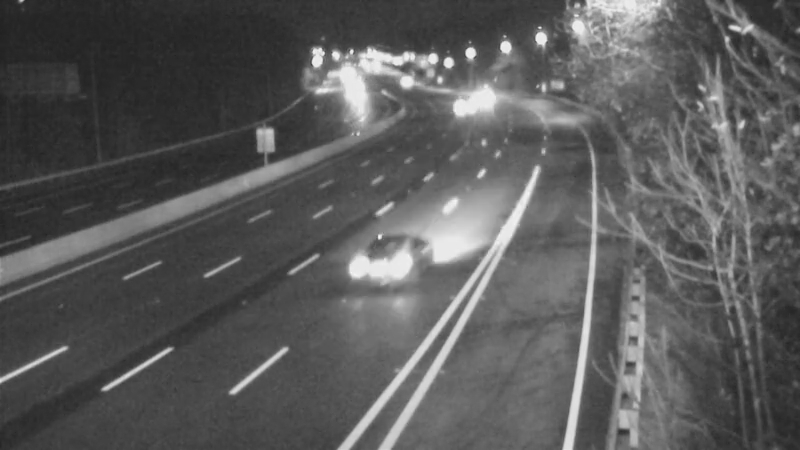vehicle: (339, 226, 419, 306), (378, 57, 428, 107), (456, 70, 506, 120), (436, 83, 486, 133)
